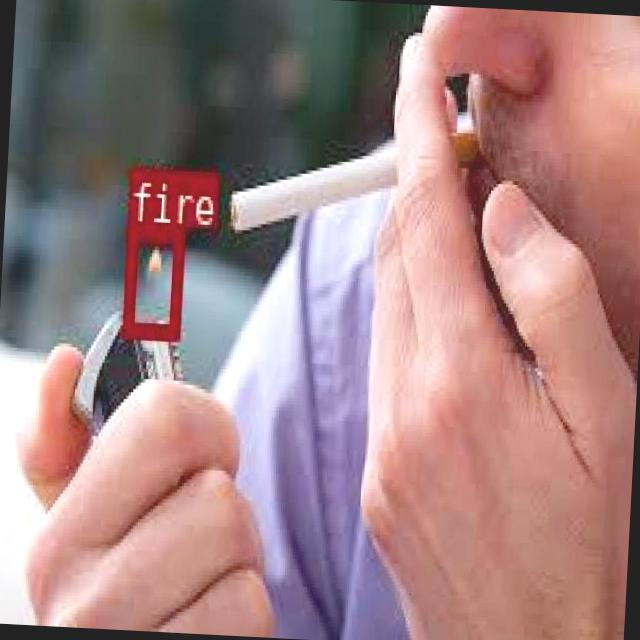fire: (122, 224, 183, 336)
